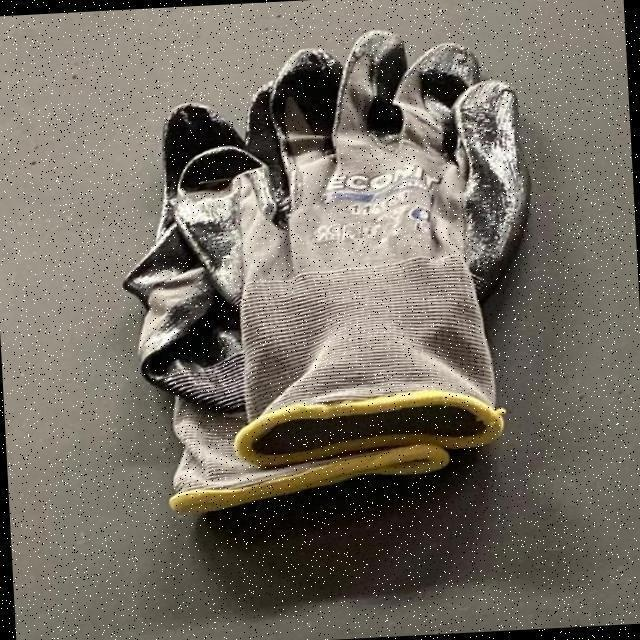Guantes: (165, 49, 536, 493)
